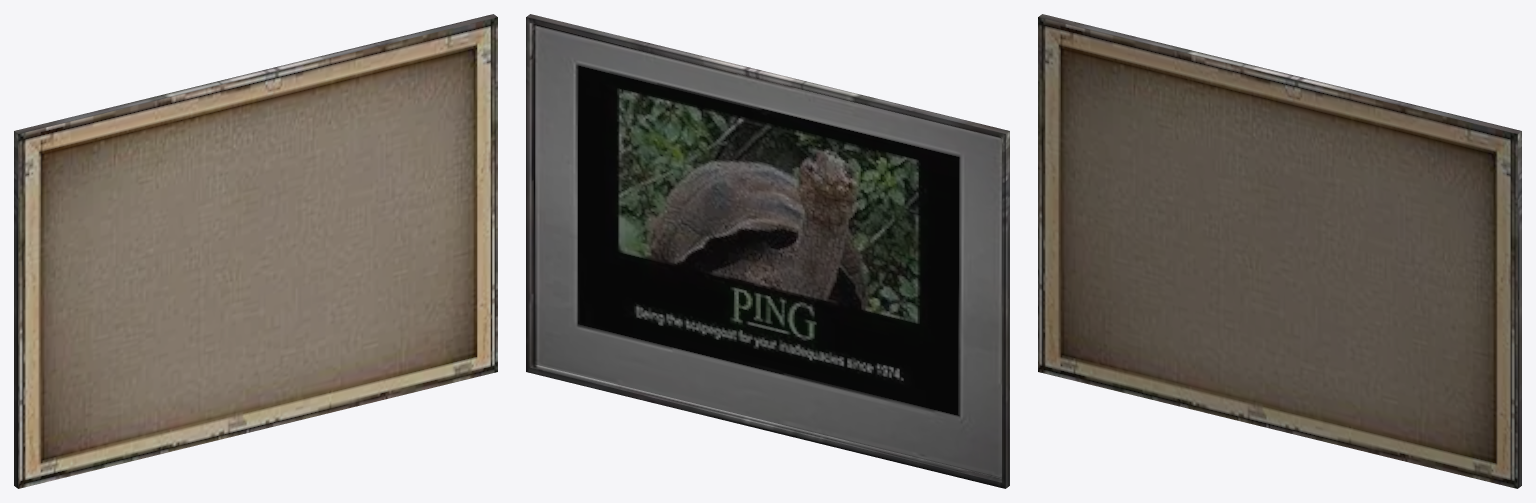
The model's file is offinspc.glb.
3 views of the same model, side by side, from view 1: azimuth 30°, elevation 25°; view 2: azimuth 150°, elevation 25°; view 3: azimuth 330°, elevation 25° (orthographic).
Parts seen in each view (by area): view 1: 0_Poster_backing, 1_offinspc; view 2: 1_offinspc; view 3: 0_Poster_backing, 1_offinspc.
Part boxes in pixels (x1,y1,x2,y2): 0_Poster_backing: (18, 17, 497, 488); 1_offinspc: (14, 14, 497, 488); 1_offinspc: (526, 14, 1009, 488); 0_Poster_backing: (1038, 17, 1517, 488); 1_offinspc: (1038, 14, 1521, 488).
Size of the model in its own units: 1.16 by 0.8171 by 0.0178.
Materials: 2 (2 with a texture image).
